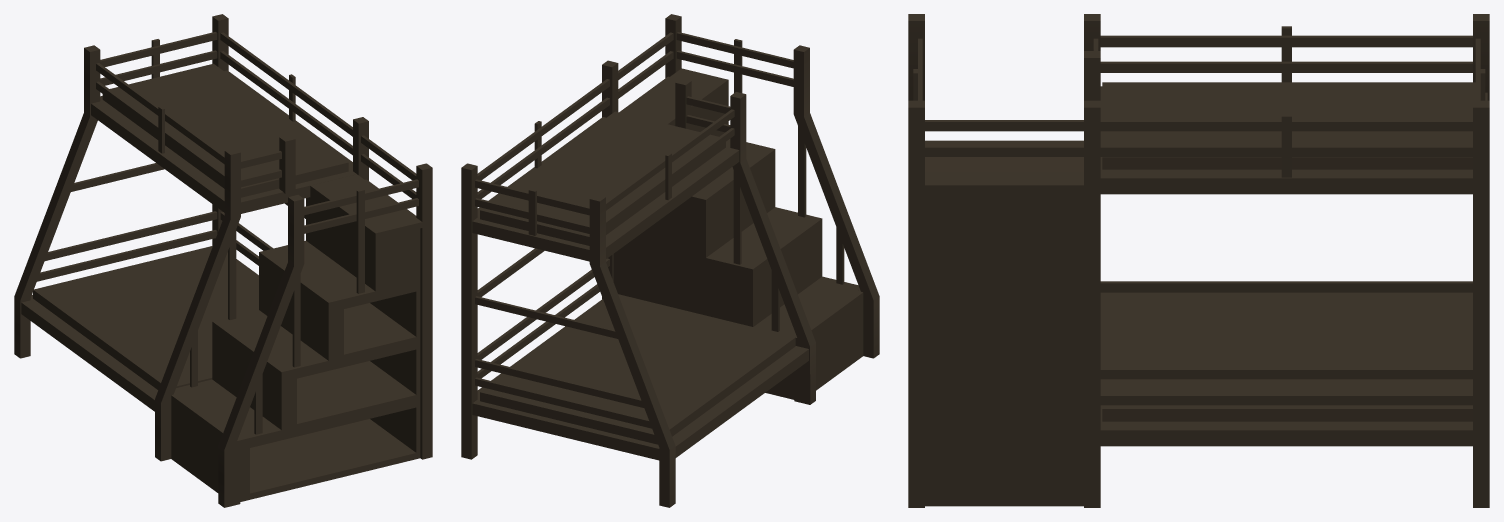
The model's file is Itr_Bed_Bunk2_01.FBX.
3 views of the same model, side by side, from view 1: azimuth 30°, elevation 25°; view 2: azimuth 150°, elevation 25°; view 3: azimuth 270°, elevation 25° (orthographic). The views are drawn at different scales.
Parts seen in each view (by area): view 1: Itr_Bed_Bunk2_01; view 2: Itr_Bed_Bunk2_01; view 3: Itr_Bed_Bunk2_01.
Boxes of the visible parts, left/top/right/bottom form: Itr_Bed_Bunk2_01: left=14, top=14, right=432, bottom=507; Itr_Bed_Bunk2_01: left=461, top=14, right=879, bottom=507; Itr_Bed_Bunk2_01: left=908, top=14, right=1489, bottom=507.
Size of the model in its own units: 79.49 by 106 by 139.
